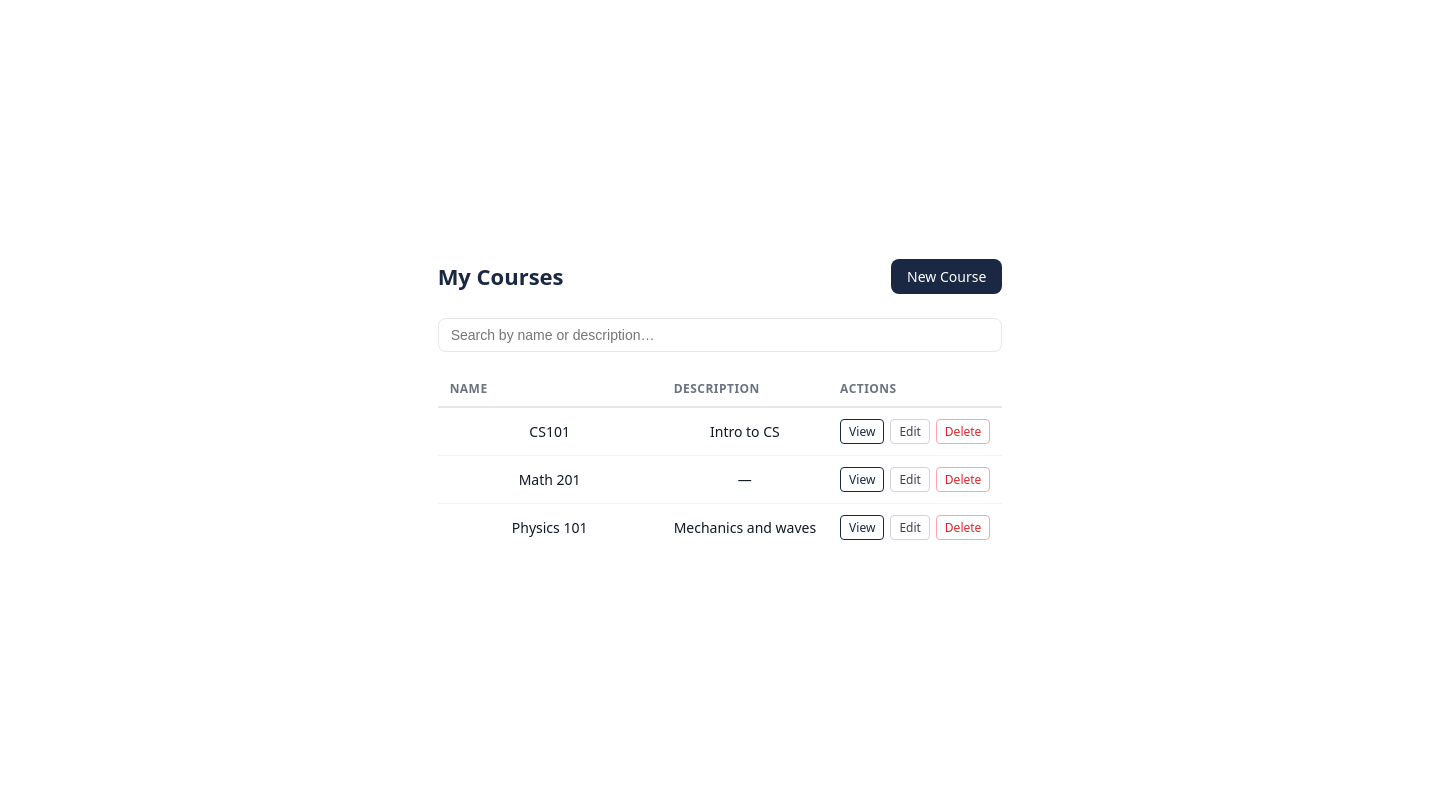
Test: MyCourseView › shows error in modal when course deletion fails
The width and height of the screenshot is (1440, 810).
Step 1. Click the button with test id "delete-course-1" → {"x": 963, "y": 432}, box [936,419,990,444]
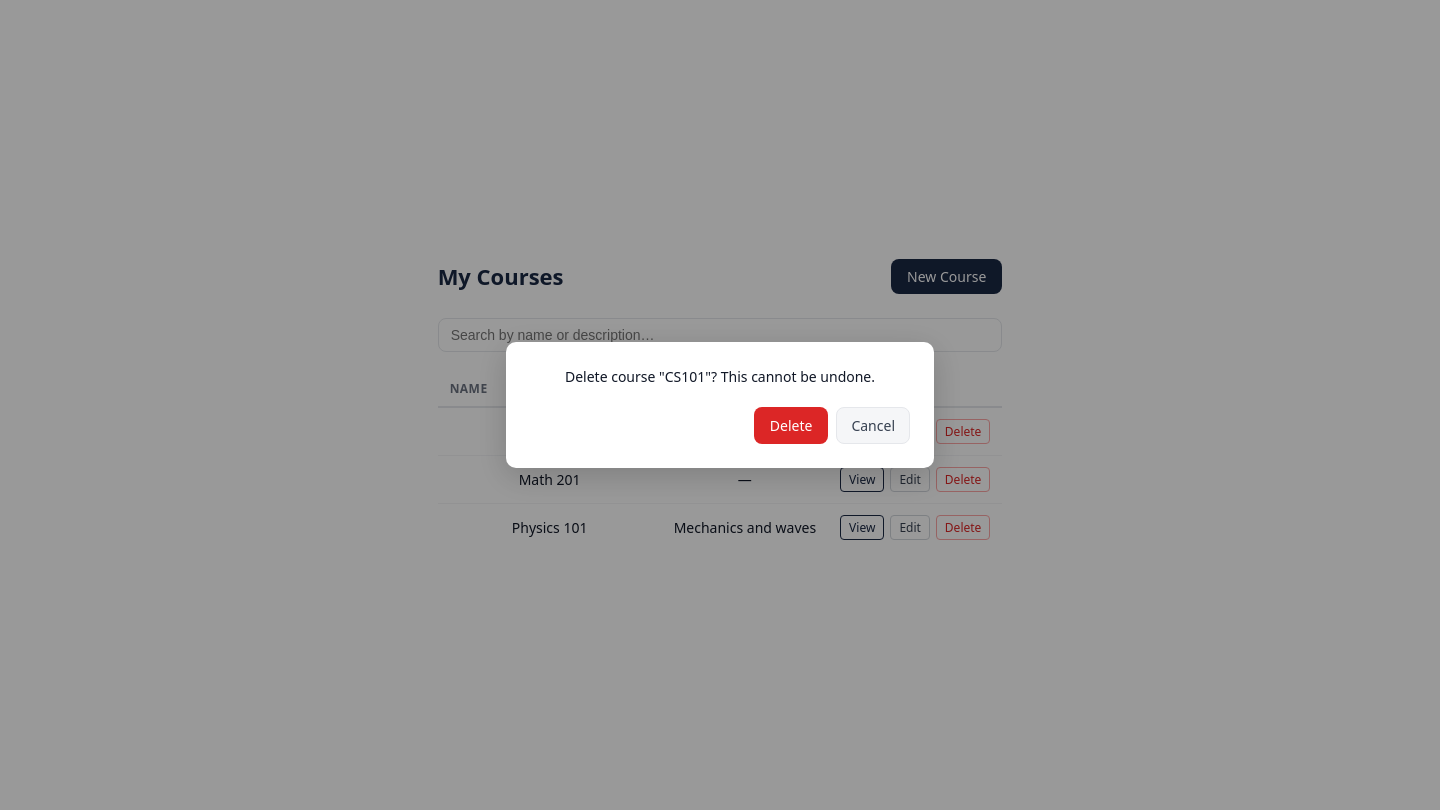
Step 2. Click the button with test id "confirm-delete-btn" → {"x": 791, "y": 426}, box [754,407,828,444]
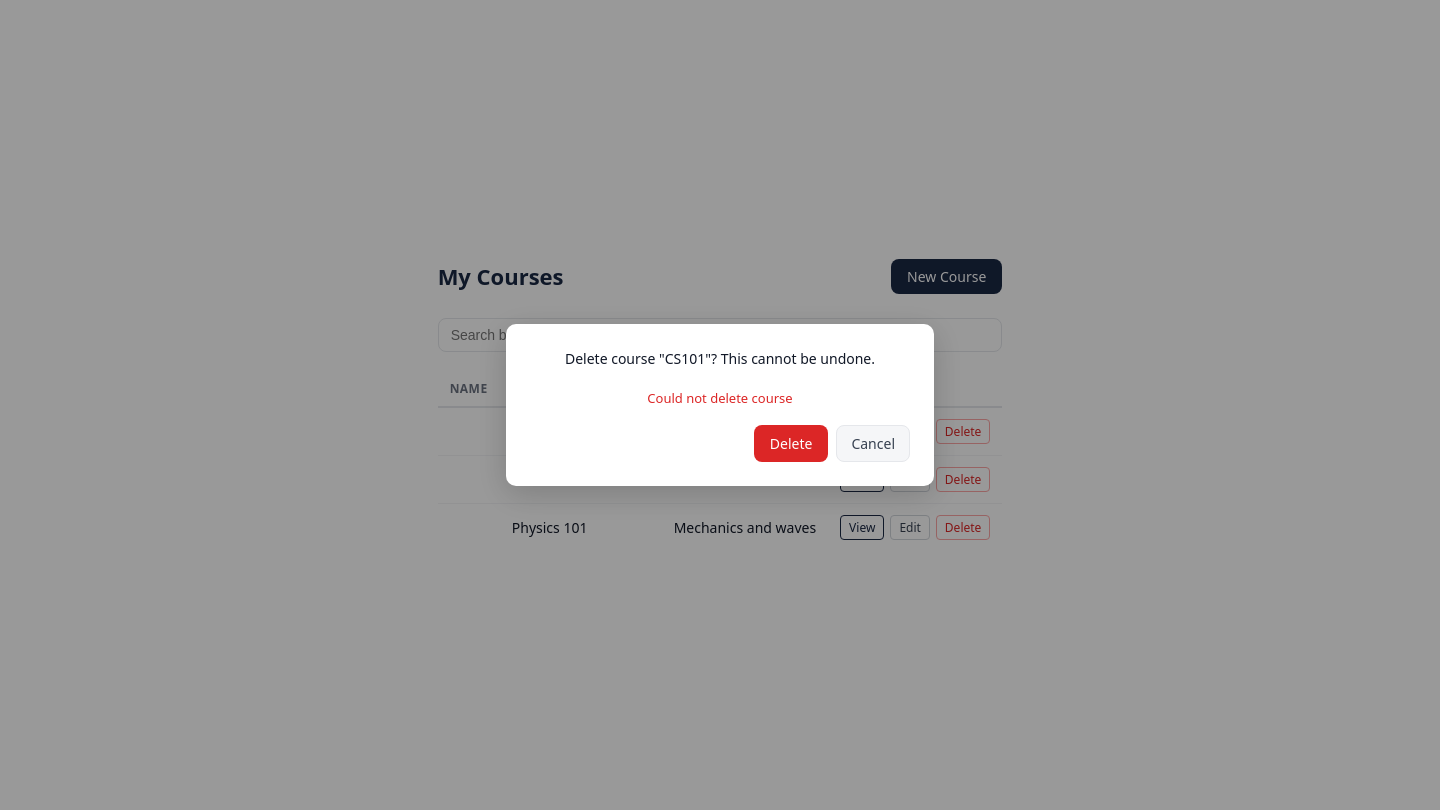
Expected: the element with test id "delete-modal" is shown
Expected: the text with test id "delete-error" reads "Could not delete course", [647,389,793,407]
